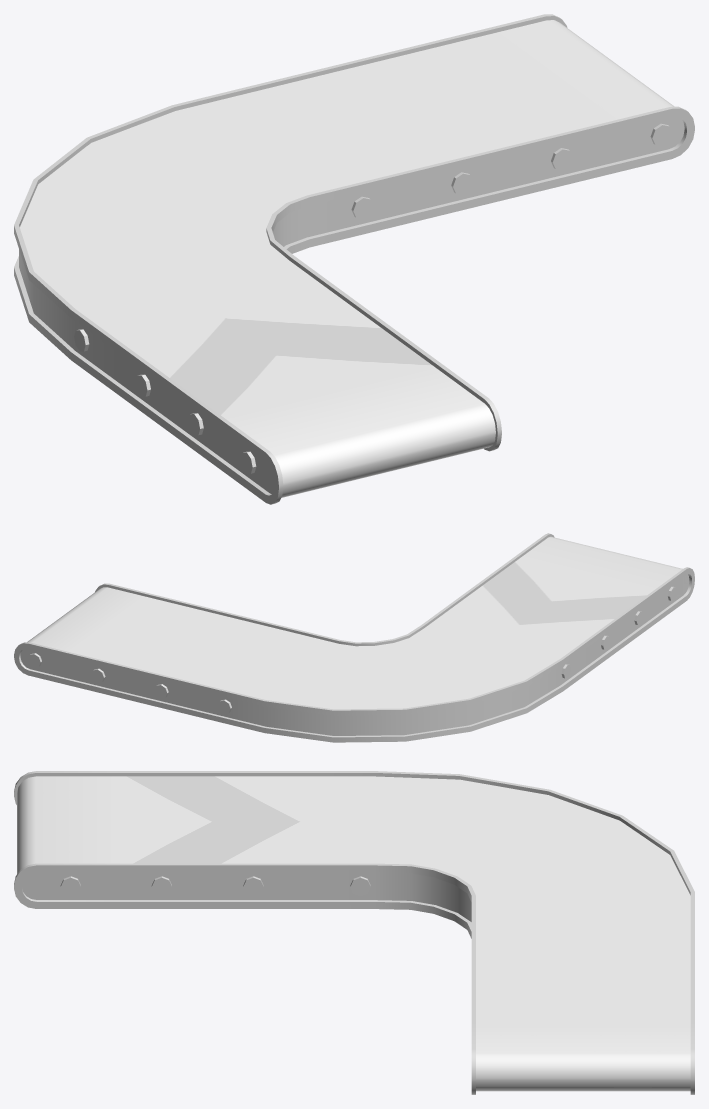
Rendered from Conveyor_L.fbx.
3 renders of one model, top to bottom at view 1: azimuth 30°, elevation 25°; view 2: azimuth 150°, elevation 25°; view 3: azimuth 270°, elevation 25°, orthographic. The views are drawn at different scales.
Parts seen in each view (by area): view 1: PaletArrow.007, PaletSide.007, Cylinder.008, Cylinder.007; view 2: PaletArrow.007, PaletSide.007, Cylinder.008, Cylinder.007; view 3: PaletArrow.007, PaletSide.007, Cylinder.007.
Part boxes in pixels (left/top/right/bottom): PaletArrow.007: left=20, top=20, right=674, bottom=497; PaletSide.007: left=14, top=14, right=694, bottom=504; Cylinder.008: left=351, top=123, right=672, bottom=219; Cylinder.007: left=74, top=329, right=256, bottom=473; PaletArrow.007: left=27, top=536, right=682, bottom=709; PaletSide.007: left=14, top=533, right=694, bottom=742; Cylinder.008: left=28, top=653, right=231, bottom=713; Cylinder.007: left=561, top=586, right=677, bottom=678; PaletArrow.007: left=17, top=776, right=690, bottom=1091; PaletSide.007: left=14, top=771, right=694, bottom=1094; Cylinder.007: left=60, top=876, right=370, bottom=895.
Size of the model in its own units: 508 by 35.88 by 508.
